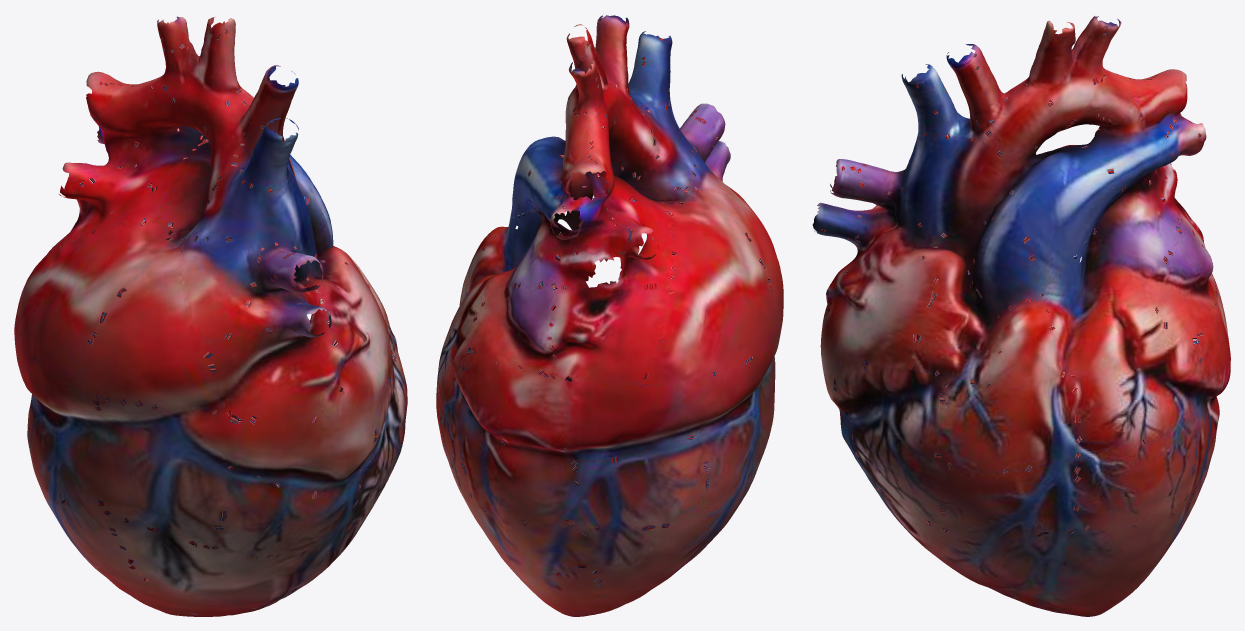
Rendered from human-heart.glb.
The picture shows the model from 3 angles, left to right: view 1: azimuth 30°, elevation 25°; view 2: azimuth 150°, elevation 25°; view 3: azimuth 270°, elevation 25°; orthographic projection. The views are drawn at different scales.
Visible parts, largest first — view 1: Heart; view 2: Heart; view 3: Heart.
Boxes of the visible parts, box(x1,y1,x2,y2) form: Heart: box(14, 16, 407, 616); Heart: box(436, 15, 783, 616); Heart: box(812, 16, 1230, 616).
Size of the model in its own units: 0.515 by 0.9031 by 0.5714.
Materials: 1 (1 with a texture image).
